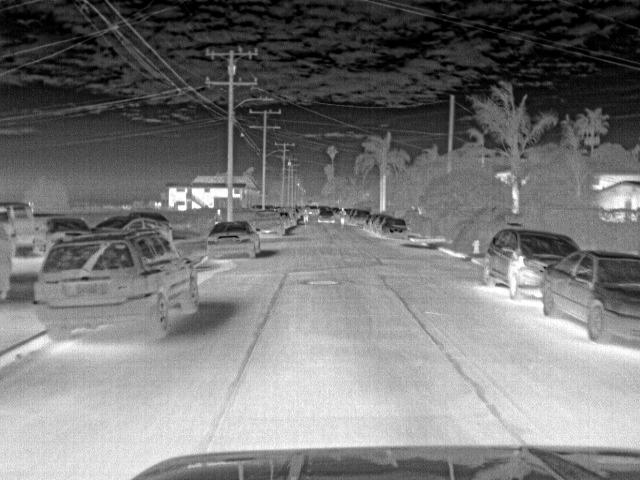car: (37, 231, 199, 341), (533, 250, 640, 352), (485, 229, 579, 304), (30, 214, 91, 257), (97, 213, 176, 241), (206, 221, 262, 258), (1, 200, 35, 249), (251, 210, 288, 235), (381, 218, 410, 239), (352, 209, 372, 227), (314, 206, 336, 222), (371, 213, 388, 233), (364, 213, 380, 230), (281, 211, 294, 227)
person: (338, 205, 351, 227), (301, 205, 314, 225), (212, 207, 224, 226)
